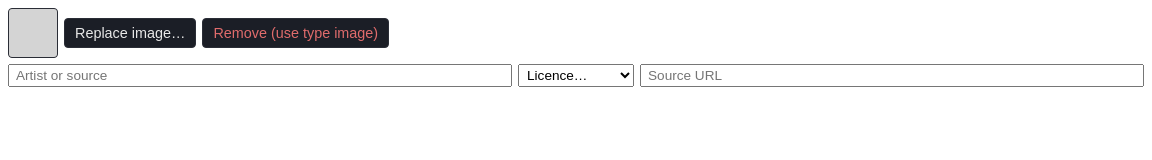
Scenario: CustomImageBlock — provenance (DATA-M4) › writes a licence pick onto the node and reports it
Select "CC-BY" in the dropdown: point(576, 76) [518, 64, 634, 87]
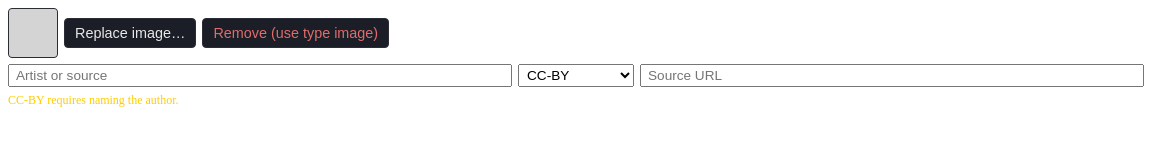
Now the text "CC-BY requires naming the author" is shown, box [8, 93, 178, 107]
